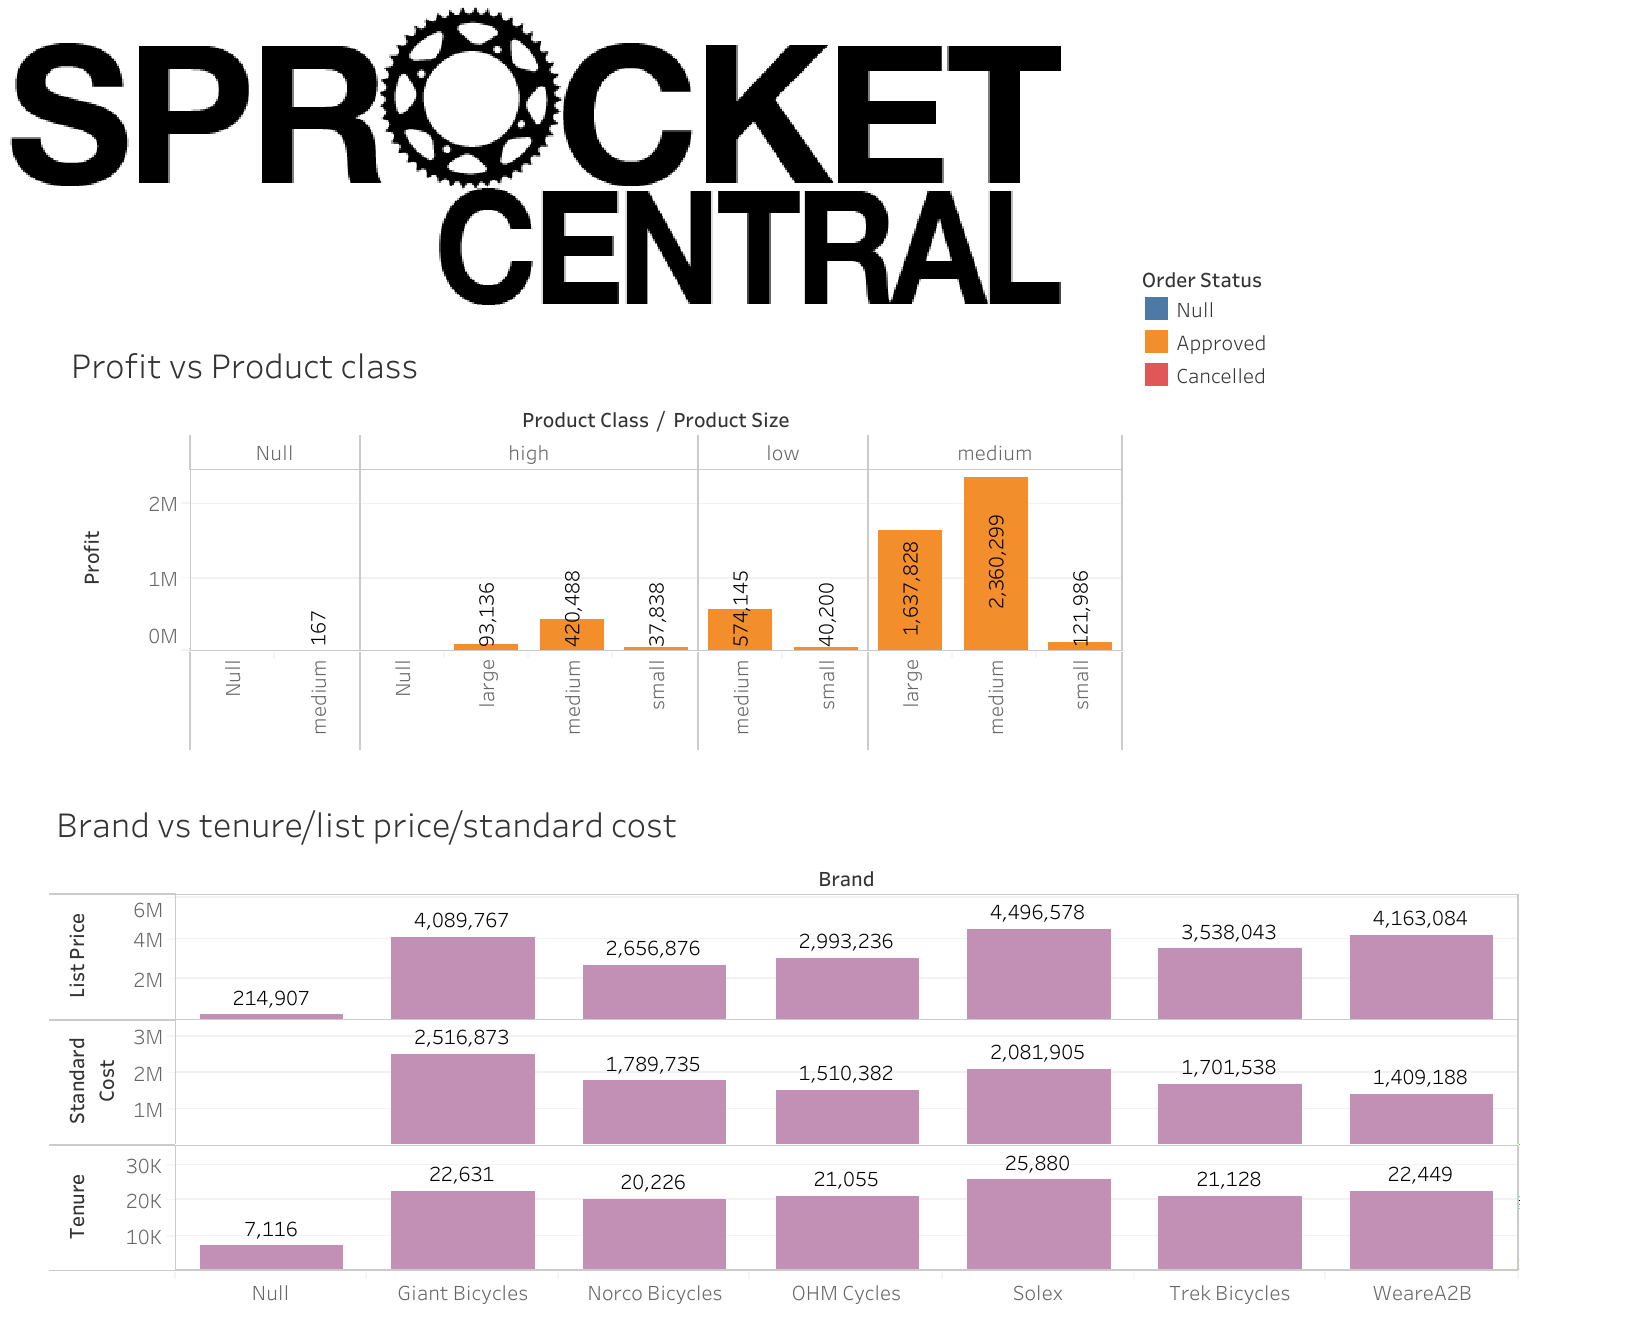

Layout of this report page (visuals, bound fields, positions):
{"tool":"tableau","page":{"name":"Dashboard 2","canvas":[1000,800],"ordinal":1},"visuals":[{"type":"worksheet","box":[0,0,1000,800]},{"type":"worksheet","param":"Image/sprocket_central_logo 1.png","box":[0,0,1000,800]},{"type":"worksheet","title":"Sheet 5","mark":"Automatic","rows":["profit"],"cols":["product_class","product_size"],"param":"[federated.1ivfszr1mu0e3v13kre811ofkol5].[none:order_status:nk]","box":[691,158,179,123]},{"type":"worksheet","title":"Sheet 5","mark":"Automatic","rows":["profit"],"cols":["product_class","product_size"],"box":[39,201,642,254]},{"type":"worksheet","title":"Sheet 3","mark":"Automatic","rows":["list_price","standard_cost","tenure"],"cols":["brand"],"box":[30,479,891,314]}]}

Visuals, with their boxes in screenshot pixels (x1, y1, x2, y2), scaled from the page's 1000x800 canvas onto the 1650x1320 screenshot:
worksheet: 0, 0, 1649, 1319
worksheet: 0, 0, 1649, 1319
"Sheet 5" worksheet: 1140, 261, 1436, 464
"Sheet 5" worksheet: 64, 332, 1124, 751
"Sheet 3" worksheet: 50, 790, 1520, 1308
